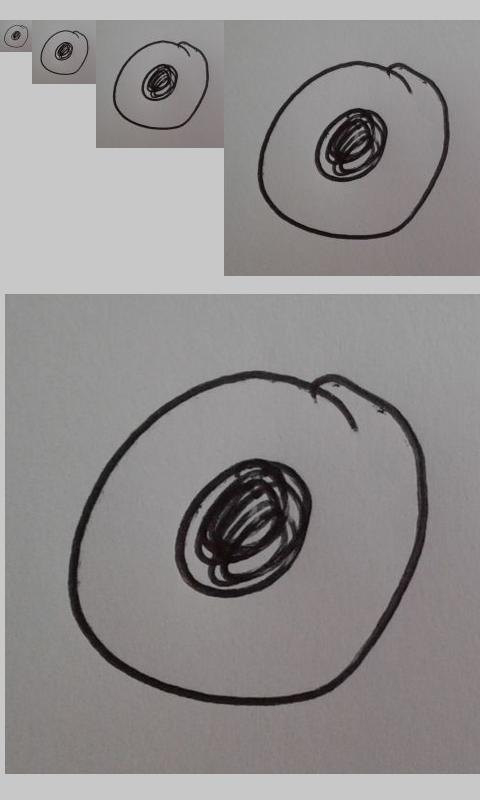radio_button: (64, 367, 430, 709), (256, 58, 451, 241), (111, 39, 210, 131), (39, 29, 89, 76), (3, 24, 29, 49)
